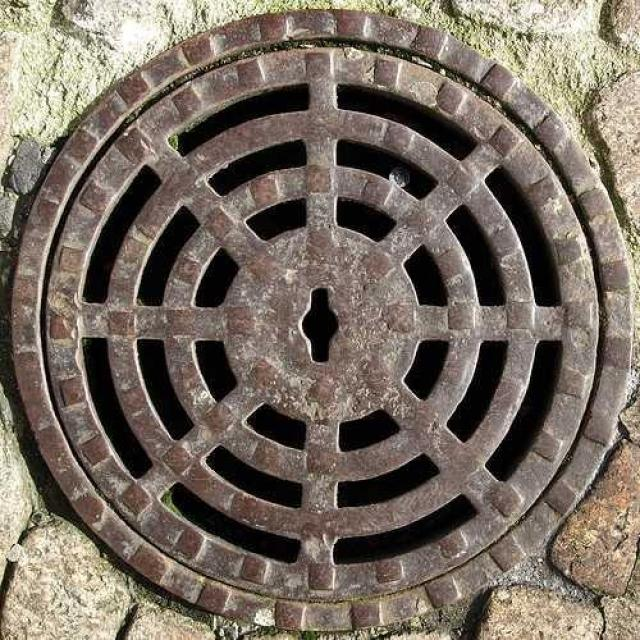manhole: (10, 10, 632, 640)
